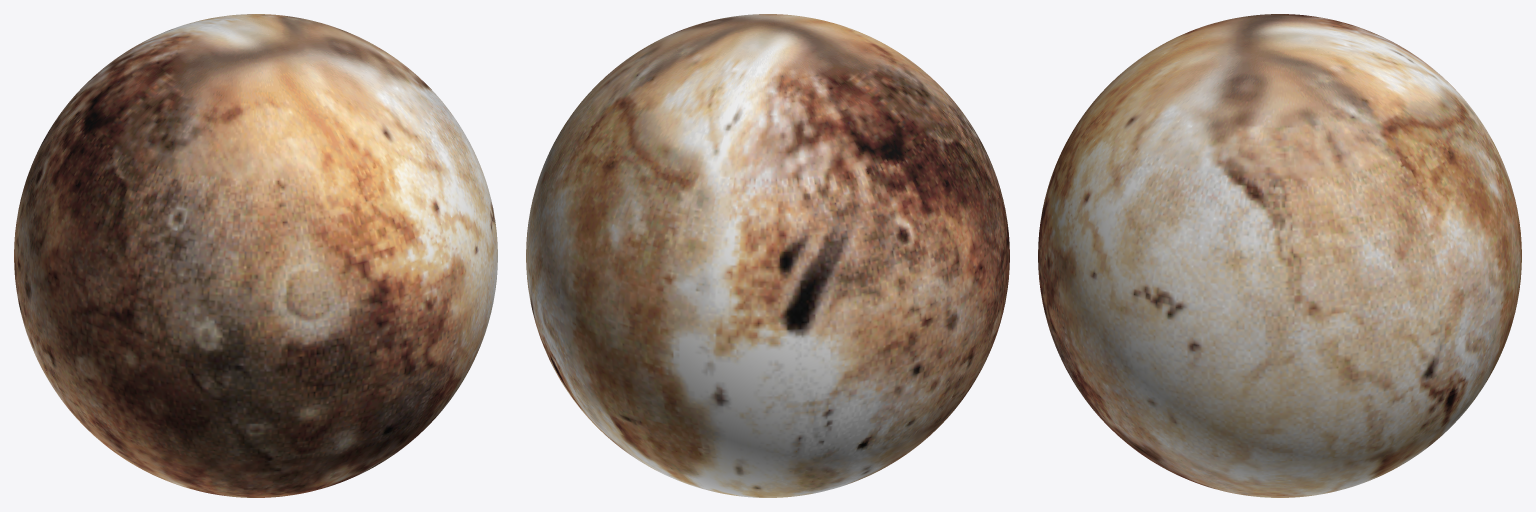
The model's file is pluto.obj.
The picture shows the model from 3 angles, left to right: view 1: azimuth 30°, elevation 25°; view 2: azimuth 150°, elevation 25°; view 3: azimuth 270°, elevation 25°; orthographic projection.
Visible parts, largest first — view 1: cylindrically_mapped_sphere.001; view 2: cylindrically_mapped_sphere.001; view 3: cylindrically_mapped_sphere.001.
Part boxes in pixels (x1=…): cylindrically_mapped_sphere.001: x1=14, y1=14, x2=497, y2=497; cylindrically_mapped_sphere.001: x1=526, y1=14, x2=1009, y2=497; cylindrically_mapped_sphere.001: x1=1038, y1=14, x2=1521, y2=497.
Size of the model in its own units: 1000 by 1000 by 1000.
1 material, 1 textured.
